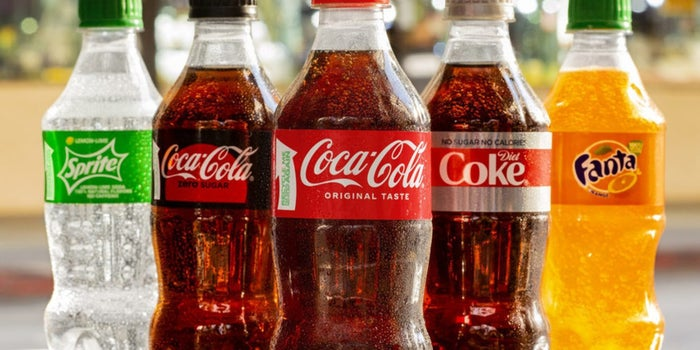plastic_bottle: (199, 1, 435, 341), (26, 1, 206, 350), (126, 1, 304, 350), (520, 2, 697, 350), (404, 1, 568, 350)
